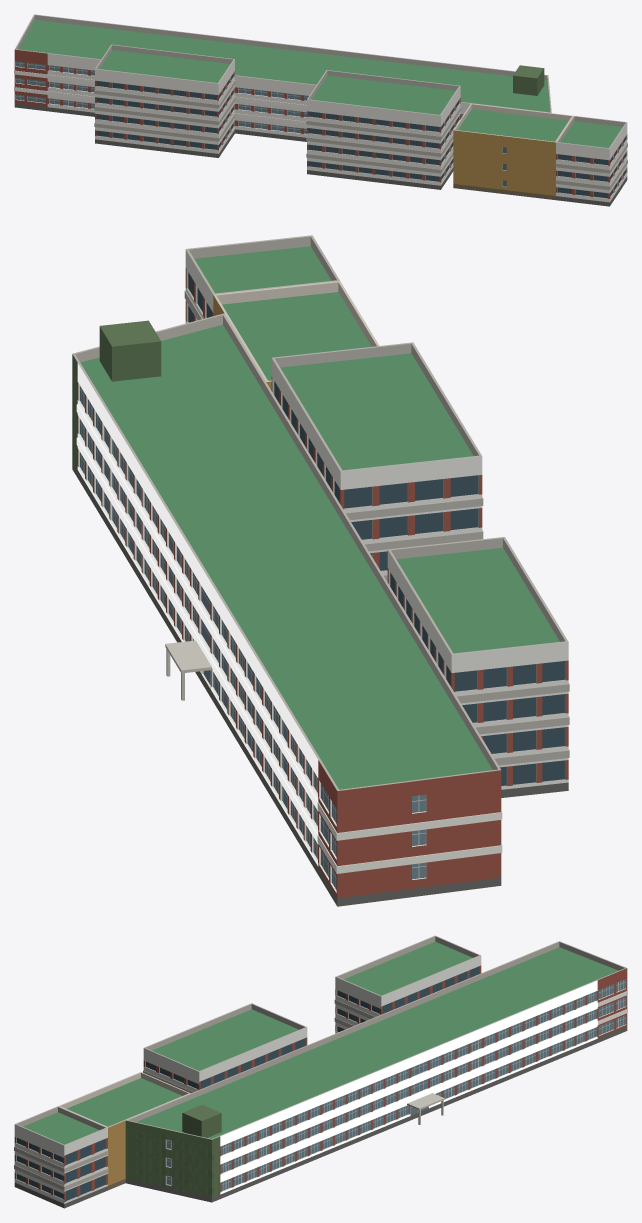
The picture shows the model from 3 angles, top to bottom: view 1: azimuth 30°, elevation 25°; view 2: azimuth 150°, elevation 25°; view 3: azimuth 270°, elevation 25°; orthographic projection. The views are drawn at different scales.
Visible parts, largest first — view 1: wing1__roof, wing1__wall-plaster, wing1__parapet-concrete, wing1-rear-terminal__glass, wing1-connector__connector-ochre, wing1__brick, wing1__base-stone, wing1__glass, wing1__trim-concrete, wing1-rear-terminal__frame, wing1-connector__trim-concrete, wing1__ivy-stairwell (+2 smaller); view 2: wing1__roof, wing1__brick, wing1__parapet-concrete, wing1__field-white, wing1__wall-plaster, wing1-rear-terminal__glass, wing1__trim-concrete, wing1__glass, wing1__base-stone, wing1__ivy-stairwell, wing1__frame, wing1-connector__trim-concrete (+2 smaller); view 3: wing1__roof, wing1__field-white, wing1__glass, wing1__parapet-concrete, wing1__wall-plaster, wing1__ivy-stairwell, wing1__brick, wing1-rear-terminal__glass, wing1__frame, wing1__base-stone, wing1__trim-concrete, wing1__ivy-light (+5 smaller).
Boxes of the visible parts, <box> form: wing1__roof: <box>18,20,622,147</box>; wing1__wall-plaster: <box>47,53,627,202</box>; wing1__parapet-concrete: <box>14,14,627,198</box>; wing1-rear-terminal__glass: <box>96,73,626,198</box>; wing1-connector__connector-ochre: <box>453,130,555,195</box>; wing1__brick: <box>14,49,627,198</box>; wing1__base-stone: <box>14,103,627,206</box>; wing1__glass: <box>16,61,463,133</box>; wing1__trim-concrete: <box>14,61,306,134</box>; wing1-rear-terminal__frame: <box>97,81,625,197</box>; wing1-connector__trim-concrete: <box>453,103,573,187</box>; wing1__ivy-stairwell: <box>513,65,544,95</box>; wing1__roof: <box>80,246,559,789</box>; wing1__brick: <box>77,268,568,898</box>; wing1__parapet-concrete: <box>72,235,569,790</box>; wing1__field-white: <box>76,363,318,866</box>; wing1__wall-plaster: <box>185,249,568,789</box>; wing1-rear-terminal__glass: <box>188,272,565,785</box>; wing1__trim-concrete: <box>78,383,502,892</box>; wing1__glass: <box>80,386,426,889</box>; wing1__base-stone: <box>72,461,568,906</box>; wing1__ivy-stairwell: <box>72,320,161,469</box>; wing1__frame: <box>80,388,425,887</box>; wing1-connector__trim-concrete: <box>213,281,379,381</box>; wing1__roof: <box>23,941,618,1144</box>; wing1__field-white: <box>220,980,597,1194</box>; wing1__glass: <box>166,979,625,1191</box>; wing1__parapet-concrete: <box>14,935,626,1201</box>; wing1__wall-plaster: <box>14,955,481,1203</box>; wing1__ivy-stairwell: <box>125,1104,221,1197</box>; wing1__brick: <box>14,965,627,1202</box>; wing1-rear-terminal__glass: <box>16,966,479,1200</box>; wing1__frame: <box>167,980,625,1190</box>; wing1__base-stone: <box>14,1026,627,1208</box>; wing1__trim-concrete: <box>165,979,627,1191</box>; wing1__ivy-light: <box>125,1127,220,1196</box>.
Size of the model in its own units: 87.82 by 16.15 by 111.
